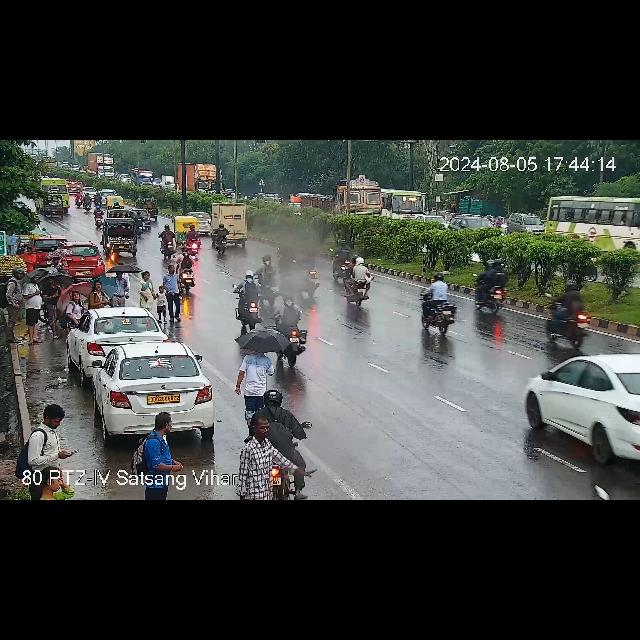bus: (542, 196, 638, 254), (384, 188, 424, 220), (40, 178, 70, 212)
car: (74, 340, 220, 438), (530, 354, 638, 464), (66, 308, 172, 379), (56, 244, 108, 276), (101, 220, 143, 250), (106, 210, 156, 230), (504, 214, 546, 236), (451, 215, 502, 232), (30, 236, 54, 266), (172, 215, 204, 233), (414, 212, 450, 225), (44, 195, 64, 218), (102, 189, 116, 205), (107, 196, 123, 208), (67, 181, 81, 193), (84, 187, 96, 200), (257, 194, 275, 202)
motorcycle: (264, 388, 306, 498), (411, 276, 462, 336), (469, 263, 516, 313), (544, 291, 594, 331), (340, 260, 376, 306), (278, 294, 306, 352), (236, 270, 258, 328), (298, 249, 320, 295), (259, 254, 279, 304), (274, 236, 296, 276), (332, 245, 358, 278), (158, 228, 182, 258), (180, 245, 194, 291), (212, 224, 234, 253), (179, 227, 201, 256), (94, 206, 102, 227), (84, 194, 92, 214), (75, 190, 83, 208), (94, 191, 102, 207), (114, 200, 122, 210)
person: (242, 416, 286, 500), (23, 406, 75, 474), (235, 344, 278, 412), (132, 412, 182, 466), (20, 274, 52, 338), (2, 269, 32, 335), (147, 267, 185, 317), (39, 276, 63, 338), (102, 268, 132, 308), (90, 279, 108, 309), (22, 247, 34, 265)
truck: (303, 180, 389, 218), (208, 199, 254, 245), (178, 162, 220, 196), (86, 152, 114, 180)
